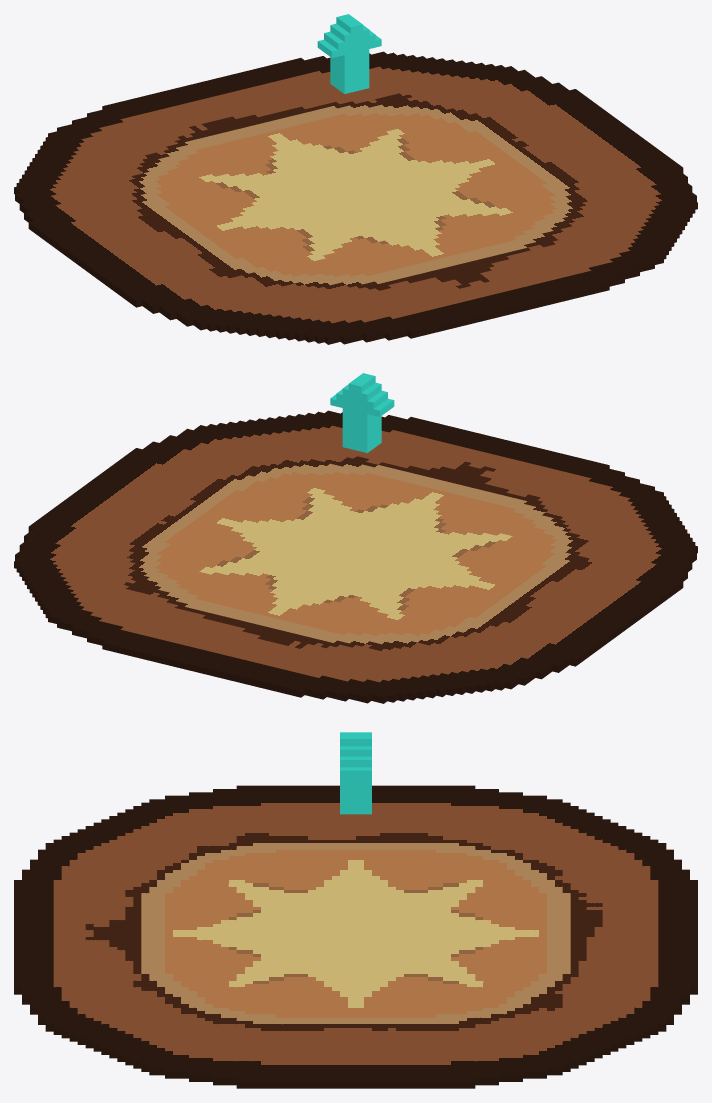
Rendered from 黑暗欺骗-地板.gltf.
3 views of the same model, one above another, from view 1: azimuth 30°, elevation 25°; view 2: azimuth 150°, elevation 25°; view 3: azimuth 270°, elevation 25° (orthographic). The views are drawn at different scales.
Parts seen in each view (by area): view 1: Object; view 2: Object; view 3: Object.
Part boxes in pixels (x1,y1,x2,y2): Object: (14,14,697,344); Object: (14,373,697,703); Object: (14,732,697,1088).
Bounding box in the file's own units: 88 × 28 × 86.
1 material, 1 textured.
